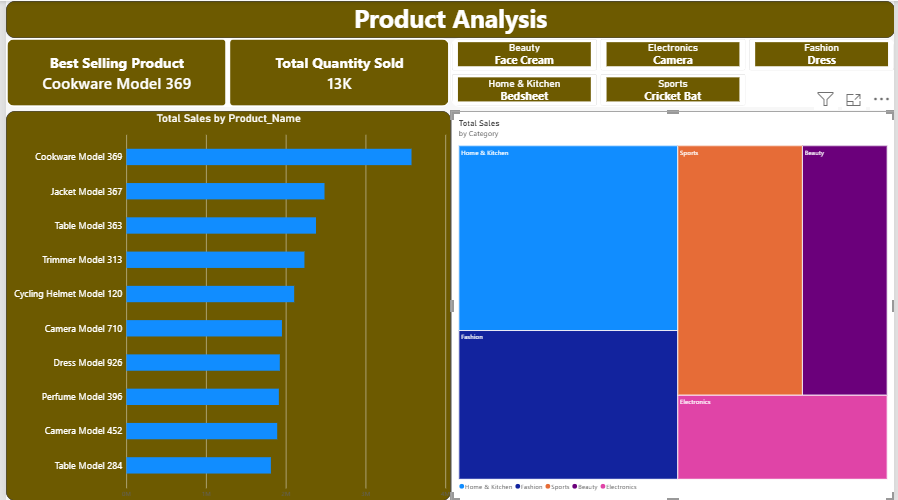

This screenshot's page, from the dashboard's own definition file:
{"tool":"powerbi","page":{"name":"Product Analysis","canvas":[1920,1080],"ordinal":2},"visuals":[{"type":"textbox","box":[0,0,1920.2,79.9],"z":0},{"type":"barChart","fields":{"Category":["Products.Product_Name"],"Y":["Calendar.Total Sales"]},"box":[0,237.6,961.2,842.4],"z":1000},{"type":"treemap","fields":{"Group":["Products.Category"],"Values":["Calendar.Total Sales"]},"box":[961.2,237.6,959,842.4],"z":2000},{"type":"cardVisual","fields":{"Data":["Calendar.Best Selling Product","Calendar.Total Quantity Sold"]},"box":[0,79.9,959,149],"z":3000},{"type":"advancedSlicerVisual","fields":{"Values":["Products.Category"],"Label":["Min(Products.Subcategory)"]},"box":[961.2,79.9,959,149],"z":6000}]}

Visuals, with their boxes in screenshot pixels (x1, y1, x2, y2), scaled from the page's 1920x1080 canvas onto the 898x500 screenshot:
textbox: x1=0, y1=0, x2=897, y2=37
barChart - Products.Product_Name x Calendar.Total Sales: x1=0, y1=110, x2=450, y2=499
treemap - Products.Category x Calendar.Total Sales: x1=450, y1=110, x2=897, y2=499
cardVisual - Calendar.Best Selling Product x Calendar.Total Quantity Sold: x1=0, y1=37, x2=449, y2=106
advancedSlicerVisual - Products.Category x Min(Products.Subcategory): x1=450, y1=37, x2=897, y2=106
